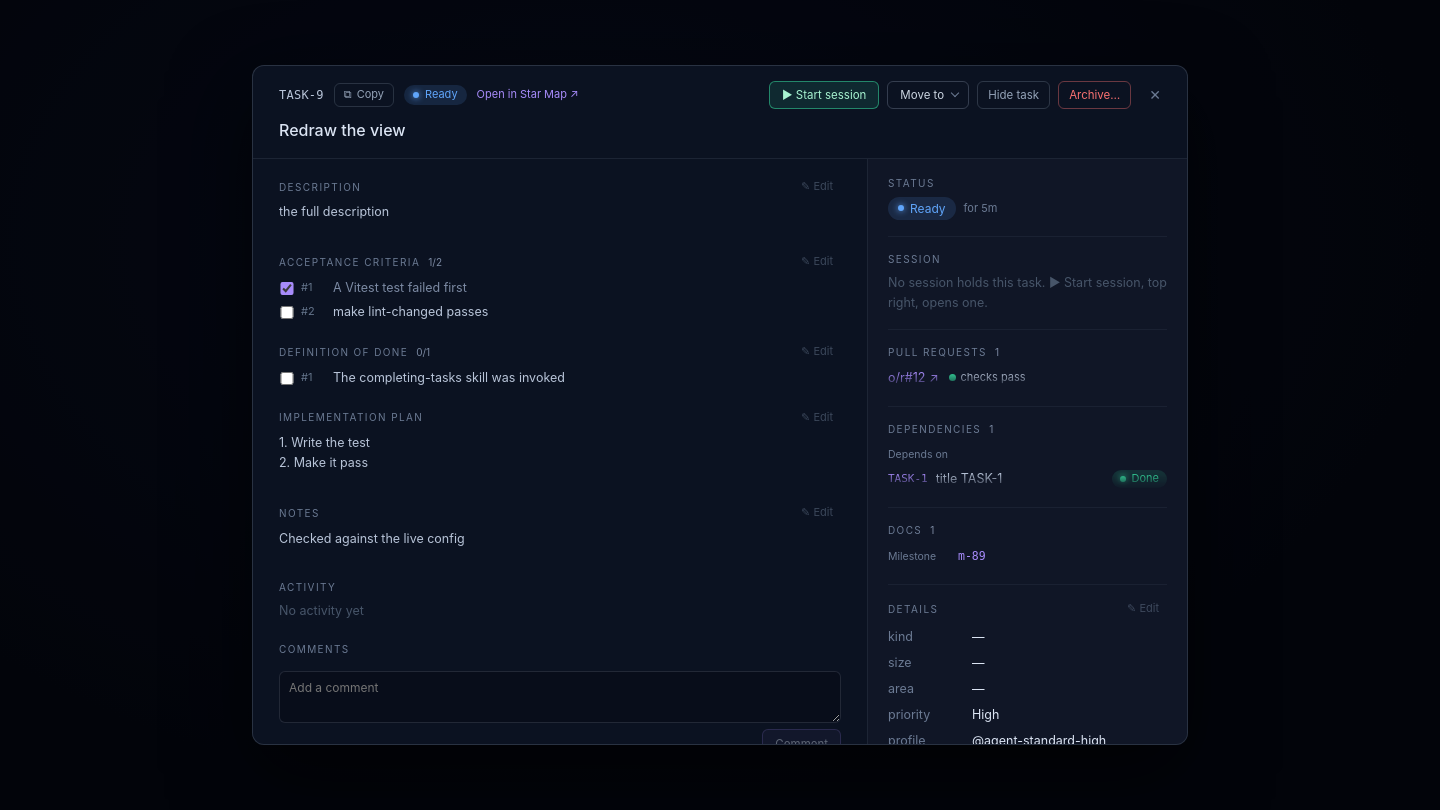
Scenario: editing one section at a time › opens that section's editor in place with its own bar while the rest stays readable
Step 1. Click the 1st button "✎ Edit" → point(817, 187), box x1=793 y1=177 x2=841 y2=196
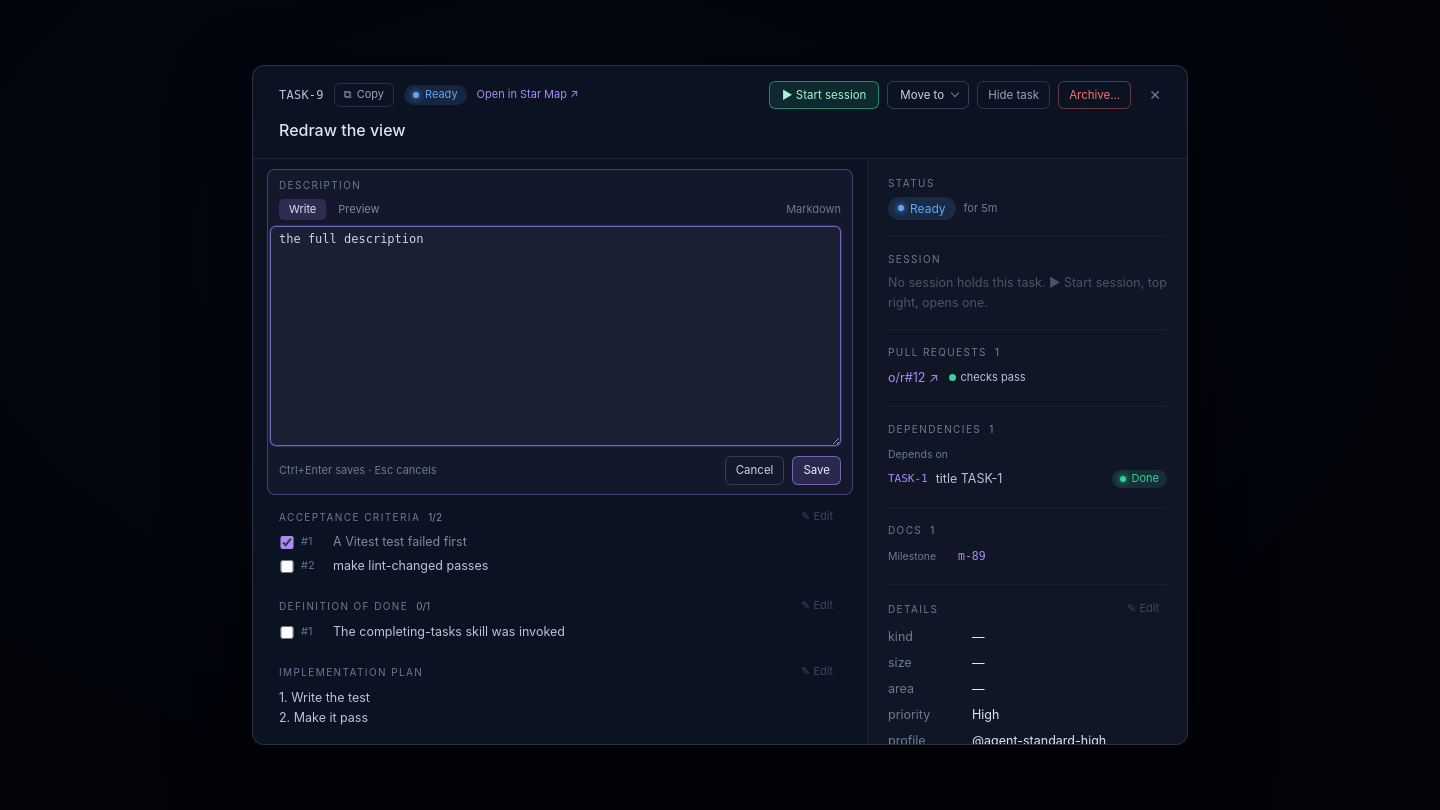
Expected: the text "1. Write the test" is shown, x1=279 y1=690 x2=370 y2=725
Result: the element that starts with "Description" shows "Ctrl+Enter saves · Esc cancels" at x1=279 y1=463 x2=436 y2=477
